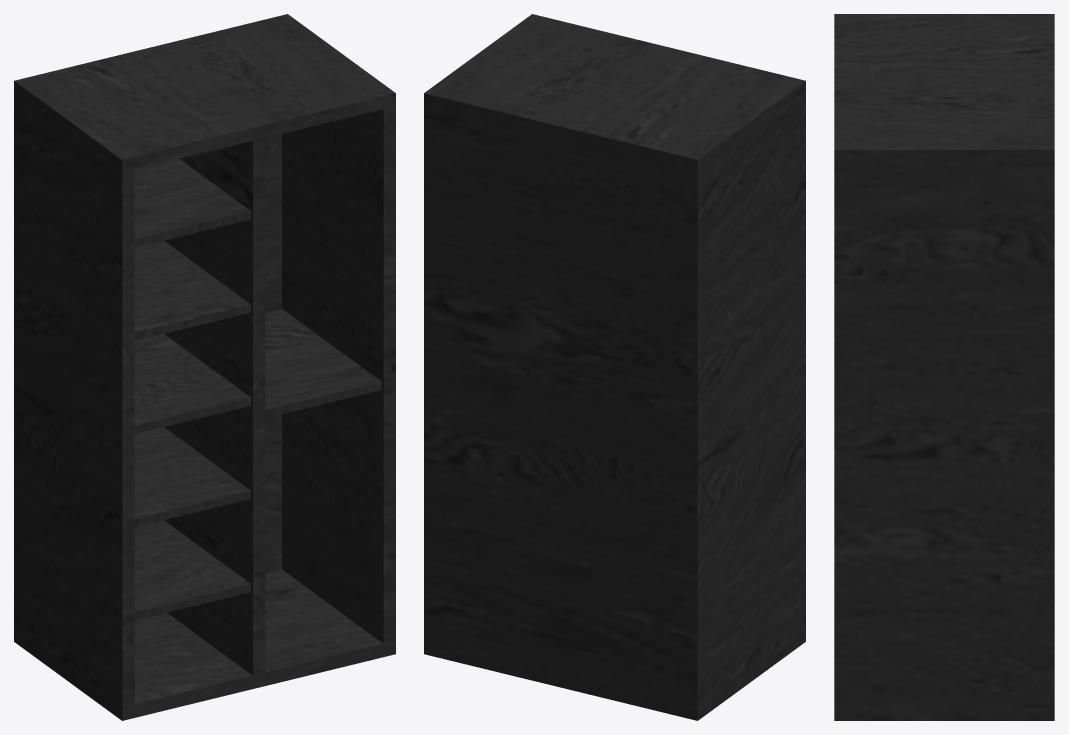
The model's file is Closet05.fbx.
3 renders of one model, left to right at view 1: azimuth 30°, elevation 25°; view 2: azimuth 150°, elevation 25°; view 3: azimuth 270°, elevation 25°, orthographic.
Parts seen in each view (by area): view 1: Closet05; view 2: Closet05; view 3: Closet05.
Boxes of the visible parts, x1,y1,x2,y2 form: Closet05: [14, 14, 395, 720]; Closet05: [424, 14, 805, 720]; Closet05: [834, 14, 1054, 720].
Bounding box in the file's own units: 130 × 254 × 88.93.
